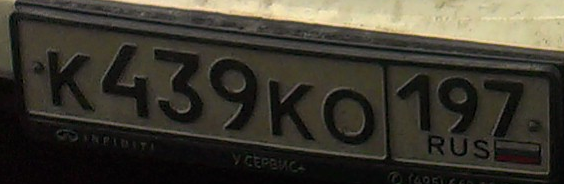character: (149, 36, 208, 130), (97, 34, 154, 126), (205, 50, 260, 136), (44, 45, 101, 122), (318, 80, 378, 151), (265, 75, 319, 145), (434, 70, 482, 141), (482, 72, 529, 144), (391, 67, 436, 139)
